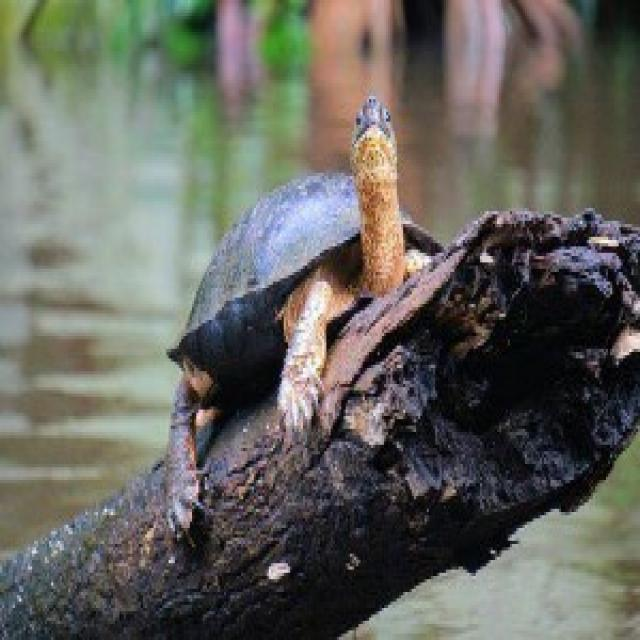Sea turtle: (133, 66, 446, 576)
